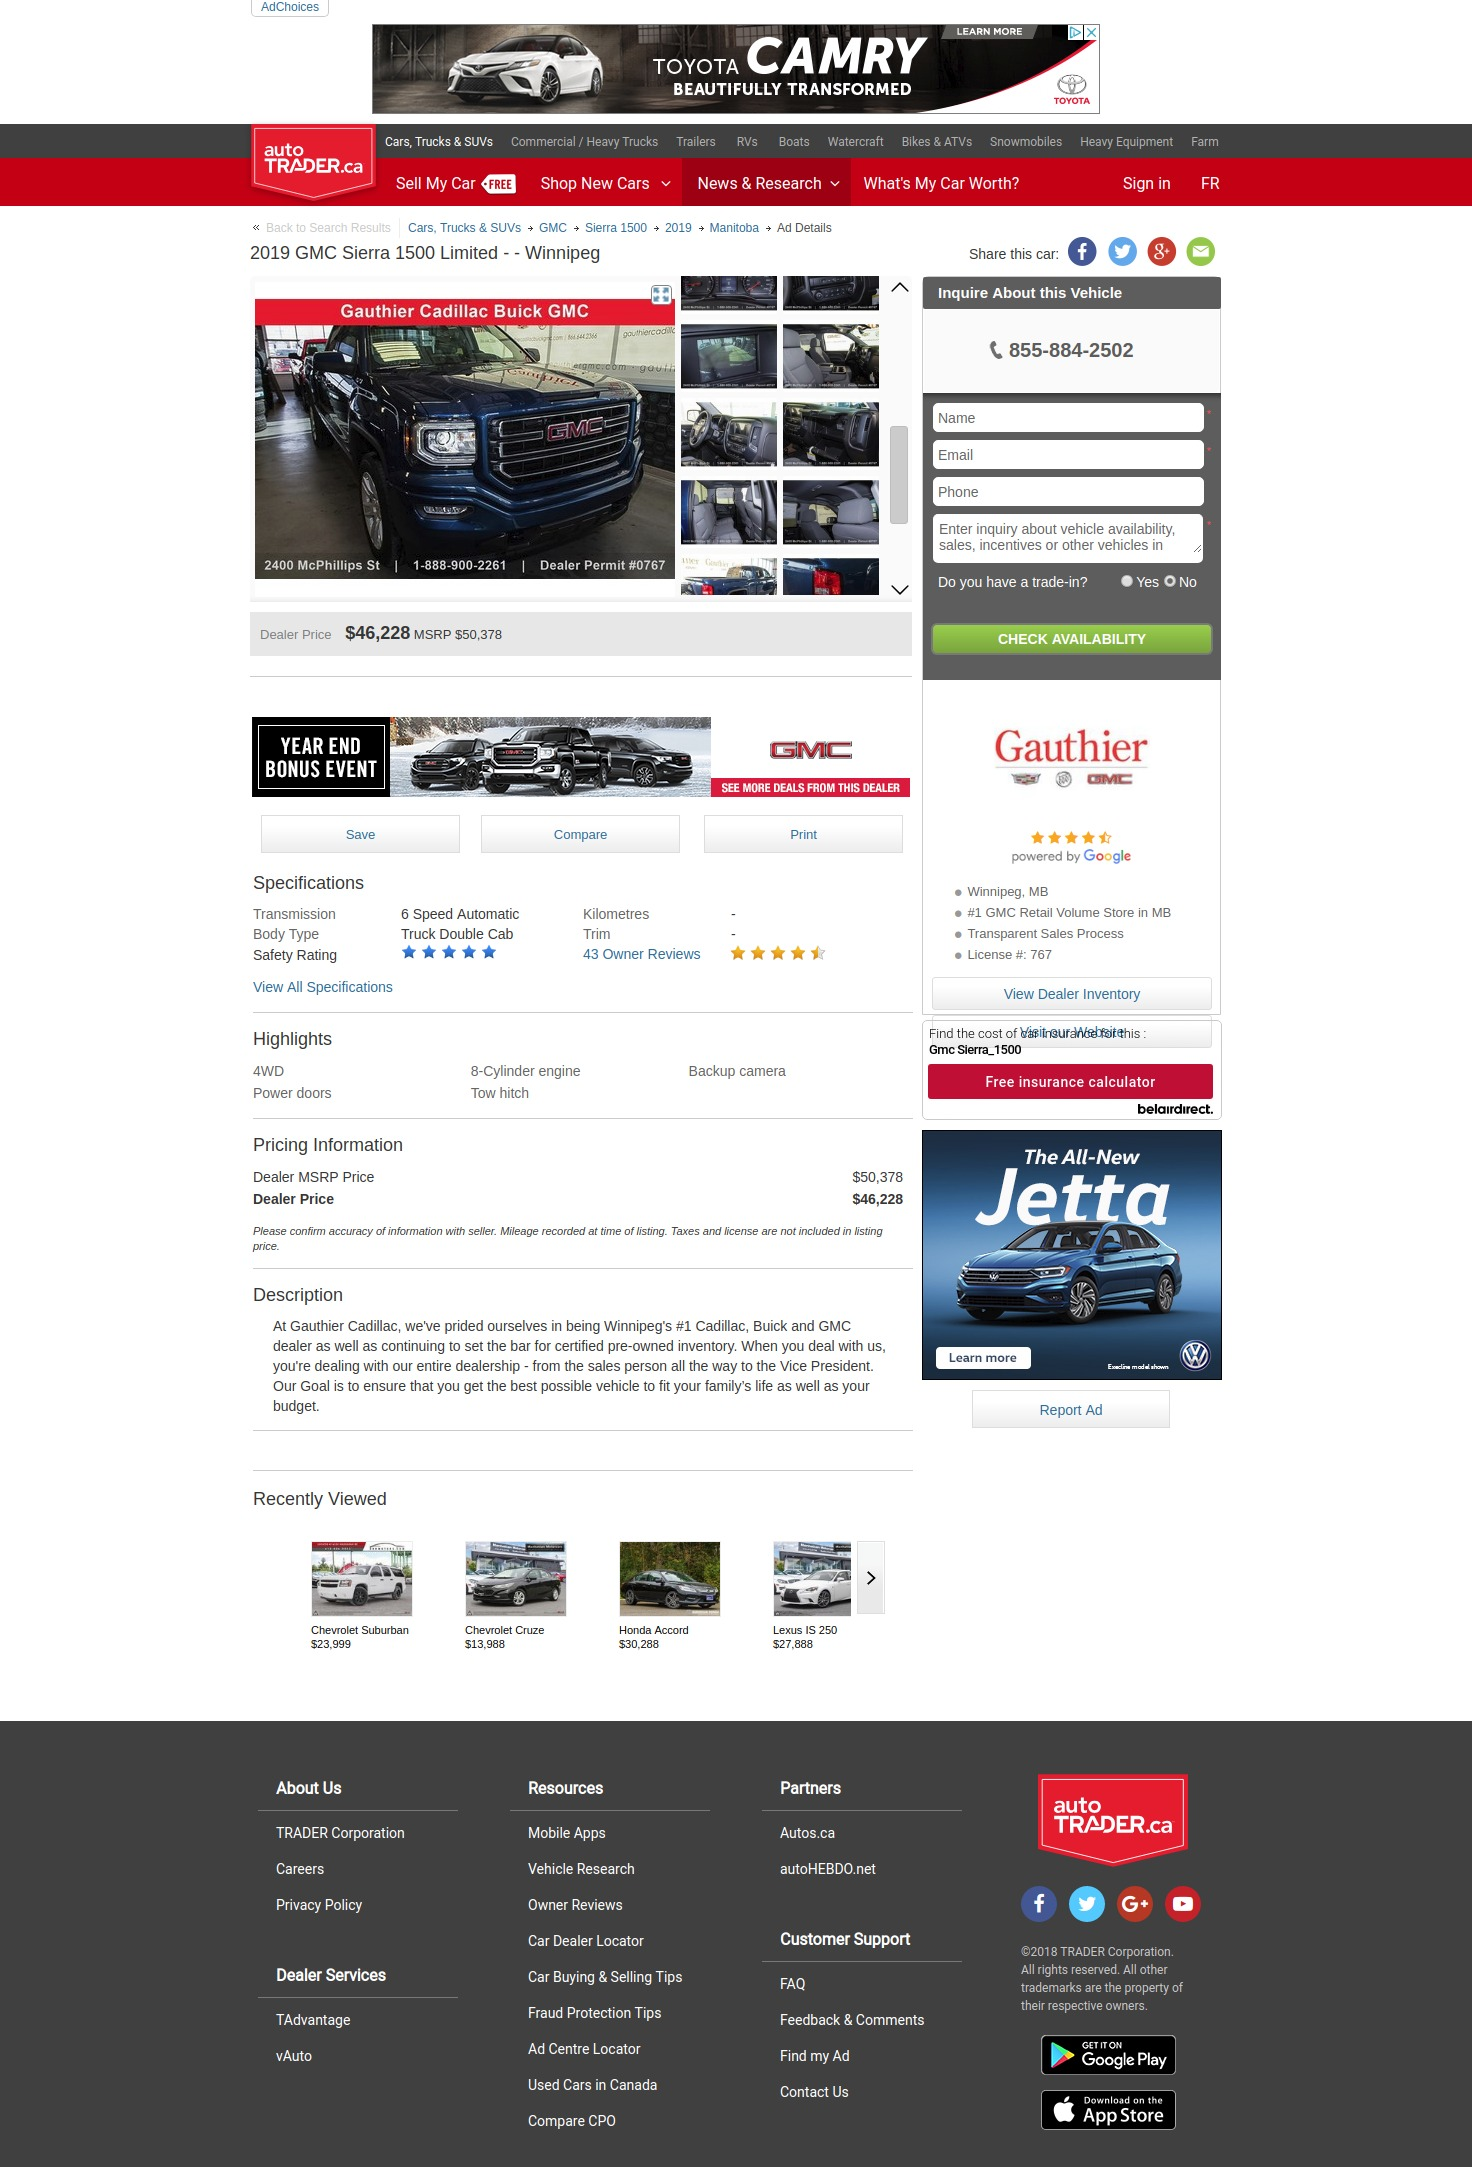car: (890, 583, 910, 596)
